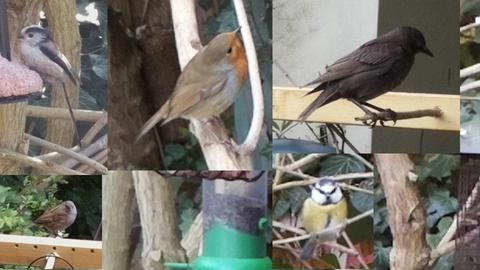blue tit: (296, 178, 348, 260)
dunnock: (24, 200, 77, 238)
long tailed tit: (18, 25, 82, 150)
robin: (132, 25, 248, 149)
starling: (298, 25, 435, 128)
